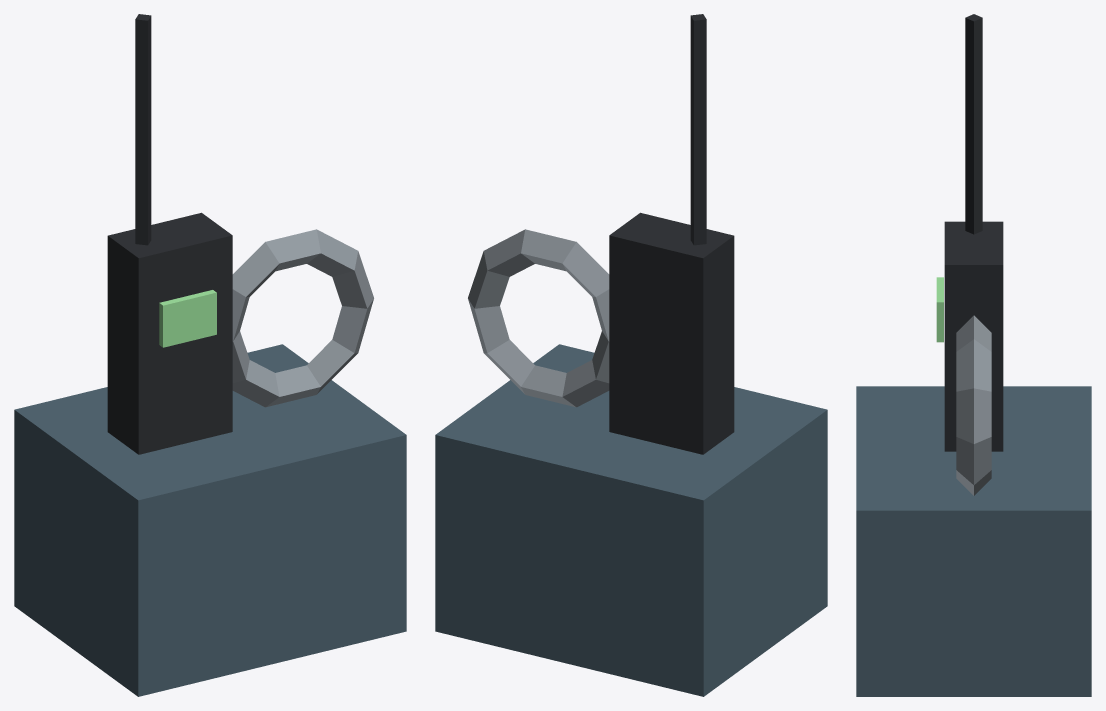
File: supply_radio.fbx
The picture shows the model from 3 angles, left to right: view 1: azimuth 30°, elevation 25°; view 2: azimuth 150°, elevation 25°; view 3: azimuth 270°, elevation 25°; orthographic projection. The views are drawn at different scales.
Parts seen in each view (by area): view 1: M__supply_radio; view 2: M__supply_radio; view 3: M__supply_radio.
Boxes of the visible parts, x1,y1,x2,y2 form: M__supply_radio: (14, 14, 406, 696); M__supply_radio: (435, 14, 827, 696); M__supply_radio: (856, 14, 1091, 696).
Size of the model in its own units: 0.222 by 0.44 by 0.16.
